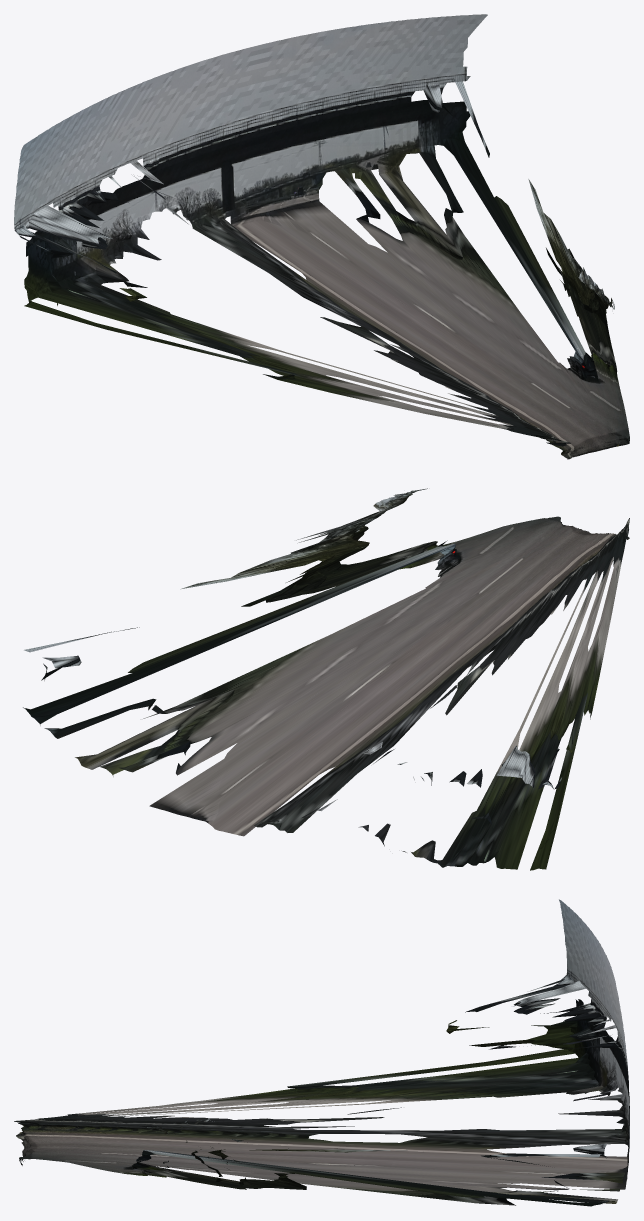
3 views of the same model, one above another, from view 1: azimuth 30°, elevation 25°; view 2: azimuth 150°, elevation 25°; view 3: azimuth 270°, elevation 25° (orthographic). The views are drawn at different scales.
Parts seen in each view (by area): view 1: defaultobject; view 2: defaultobject; view 3: defaultobject.
Boxes of the visible parts, left/top/right/bottom form: defaultobject: left=14, top=14, right=629, bottom=459; defaultobject: left=23, top=488, right=629, bottom=870; defaultobject: left=14, top=899, right=629, bottom=1206.
Size of the model in its own units: 36.07 by 13.04 by 44.72.
Materials: 1 (1 with a texture image).
